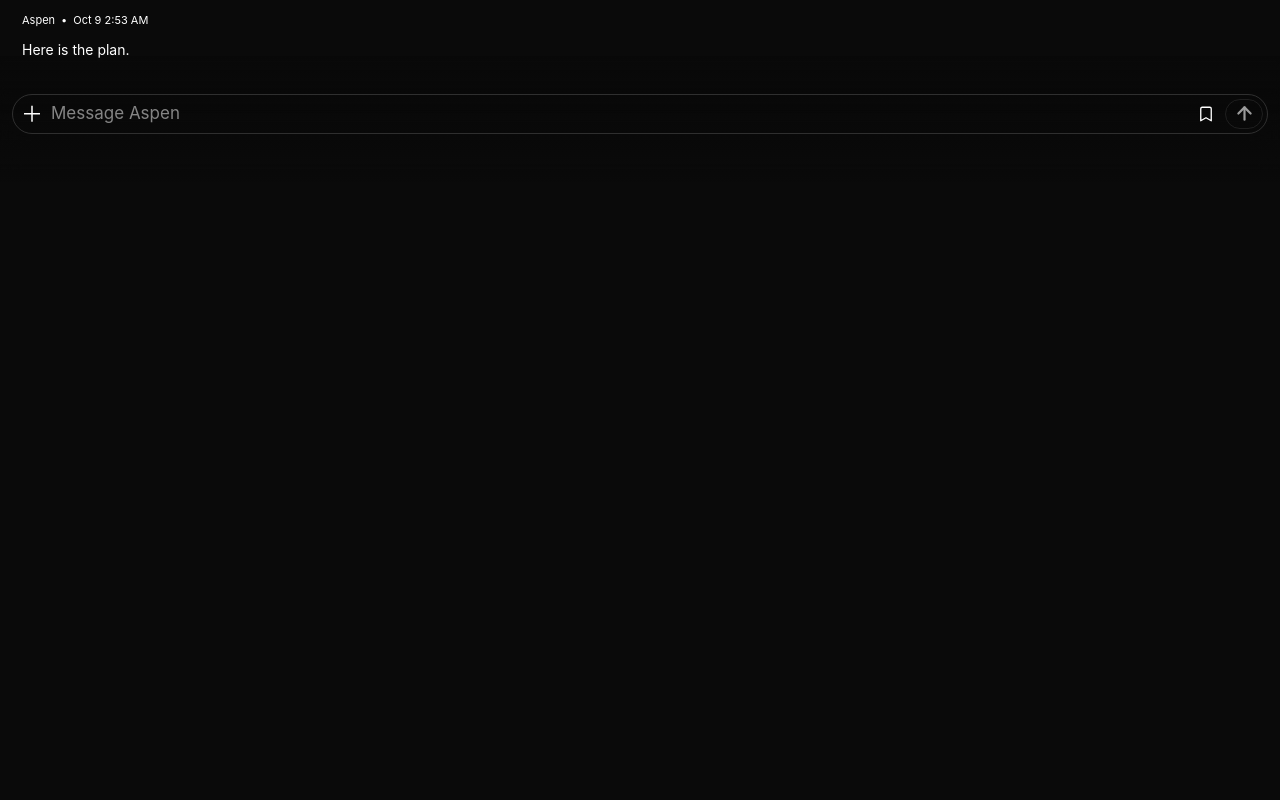
Test: the stash button and sheet › 'Remove from stash after use' drops it once chosen
Click the button with test id "stash-button" at (1206, 114), box top-left (1191, 98), bottom-right (1221, 128)
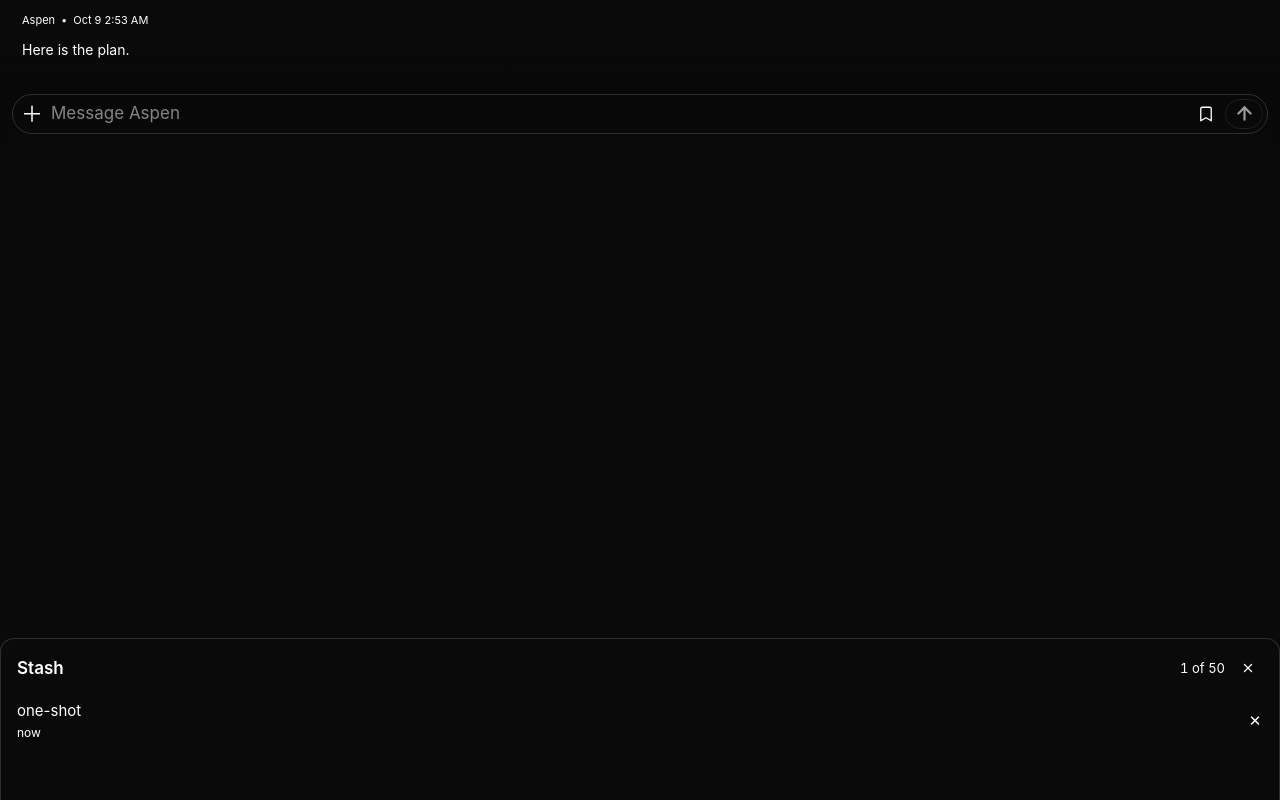
Click the button with test id "stash-item" at (49, 711), box top-left (1, 691), bottom-right (1231, 752)
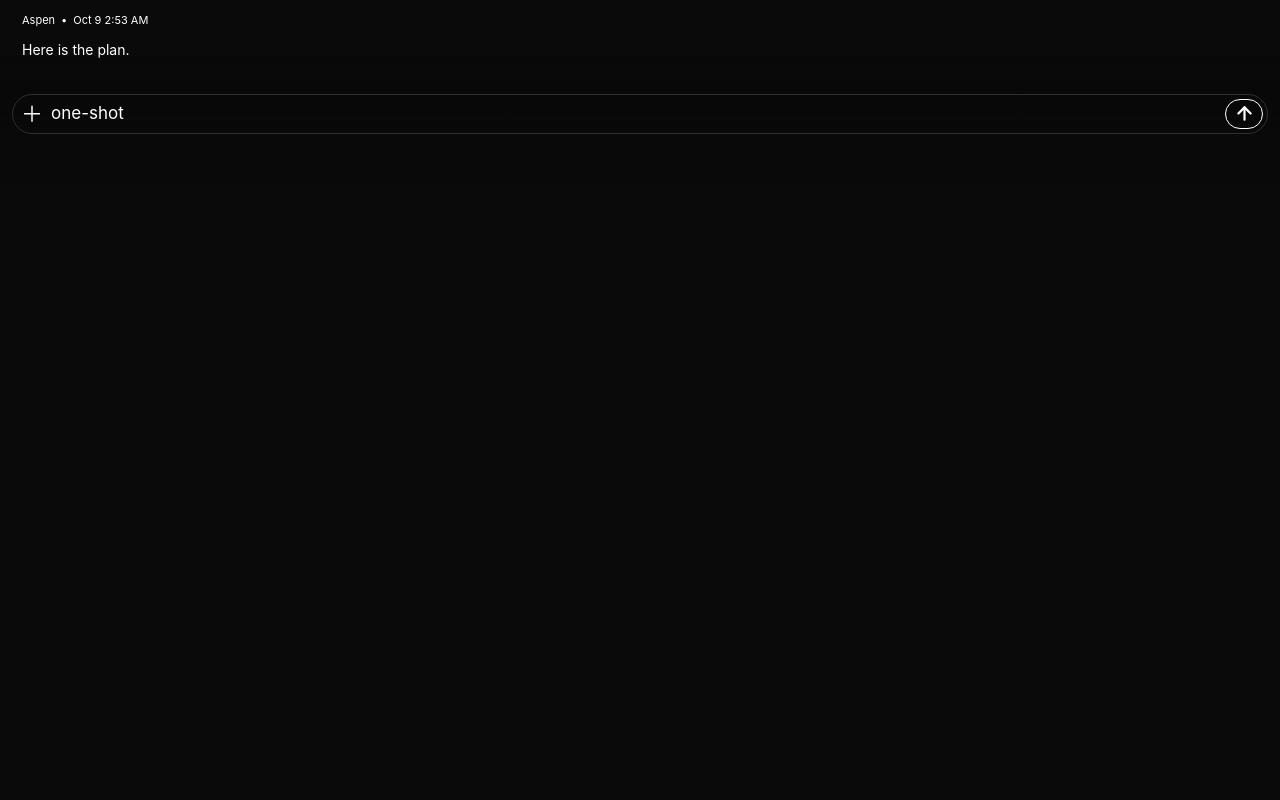
Now the text box with test id "composer-input" holds "one-shot", box top-left (51, 98), bottom-right (1221, 128)
